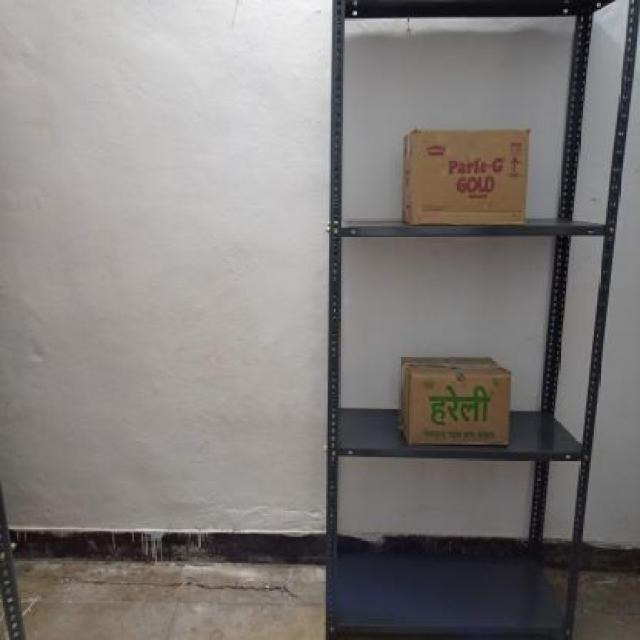box: (410, 127, 524, 220), (408, 373, 510, 447)
